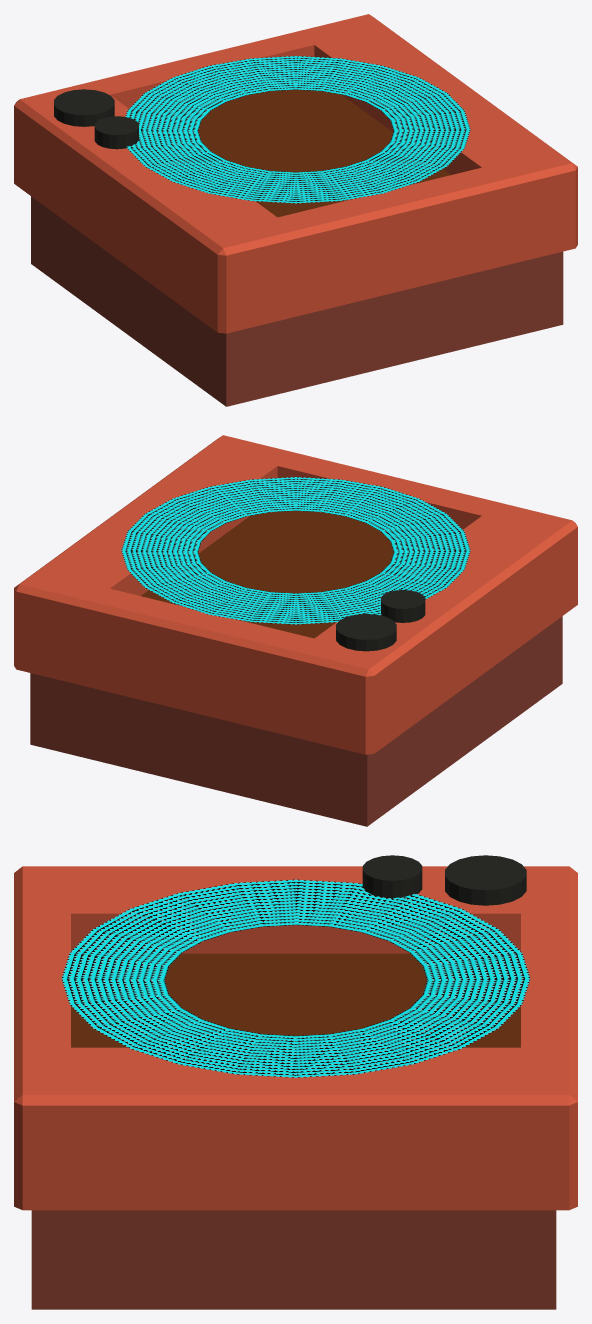
File: FryingStation.obj
3 views of the same model, one above another, from view 1: azimuth 30°, elevation 25°; view 2: azimuth 150°, elevation 25°; view 3: azimuth 270°, elevation 25° (orthographic). The views are drawn at different scales.
Visible parts, largest first — view 1: Worktop, Mesh1; view 2: Worktop, Mesh1; view 3: Worktop, Mesh1.
Part boxes in pixels (x1,y1,x2,y2): Worktop: (14, 14, 577, 406); Mesh1: (125, 56, 470, 203); Worktop: (14, 435, 577, 826); Mesh1: (121, 477, 470, 624); Worktop: (14, 855, 577, 1309); Mesh1: (61, 879, 530, 1077).
Size of the model in its own units: 1.2 by 0.5643 by 1.22.
Materials: 3 (3 with a texture image).
